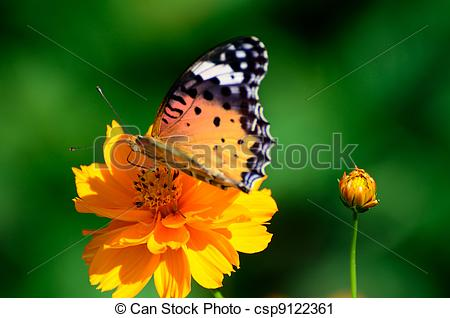Argyreus hyperbius: (67, 29, 278, 196)
butterfly: (69, 31, 280, 198)
